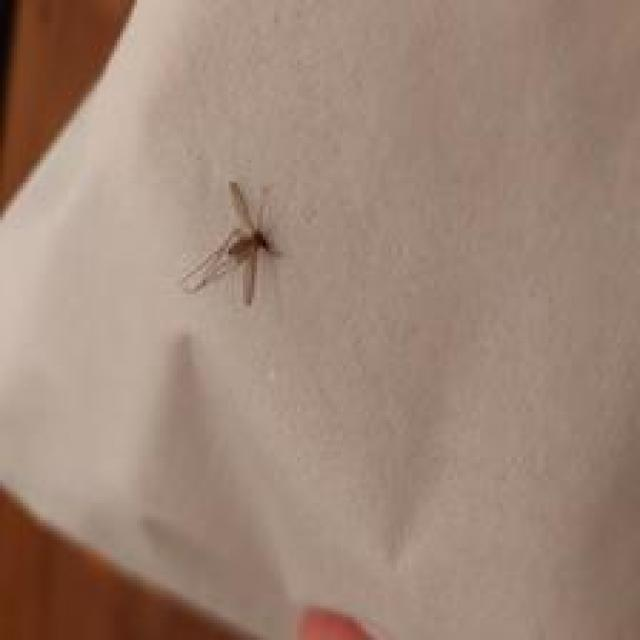Culex: (177, 179, 286, 307)
